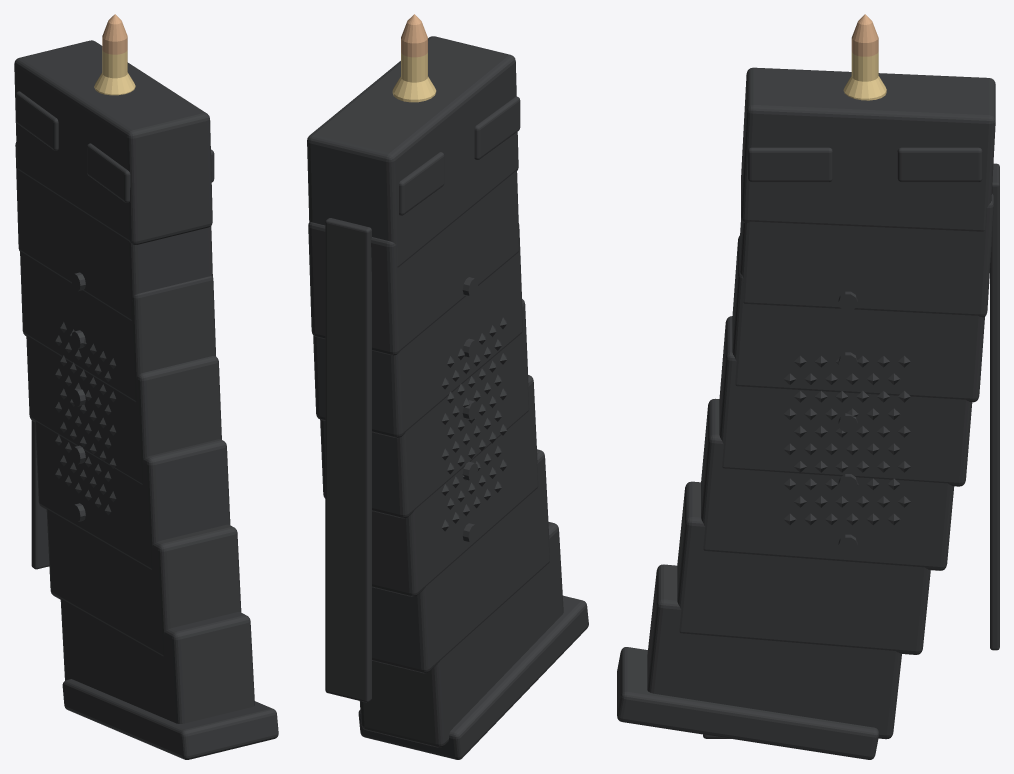
Rendered from mod-carbine-magazine-33391.glb.
The picture shows the model from 3 angles, left to right: view 1: azimuth 30°, elevation 25°; view 2: azimuth 150°, elevation 25°; view 3: azimuth 270°, elevation 25°; orthographic projection. The views are drawn at different scales.
Bounding box in the file's own units: 0.5566 × 3.82 × 1.83.
